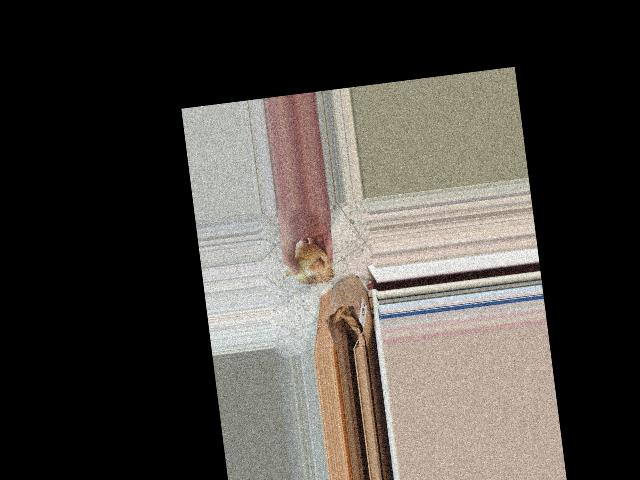onion: (285, 238, 335, 291)
